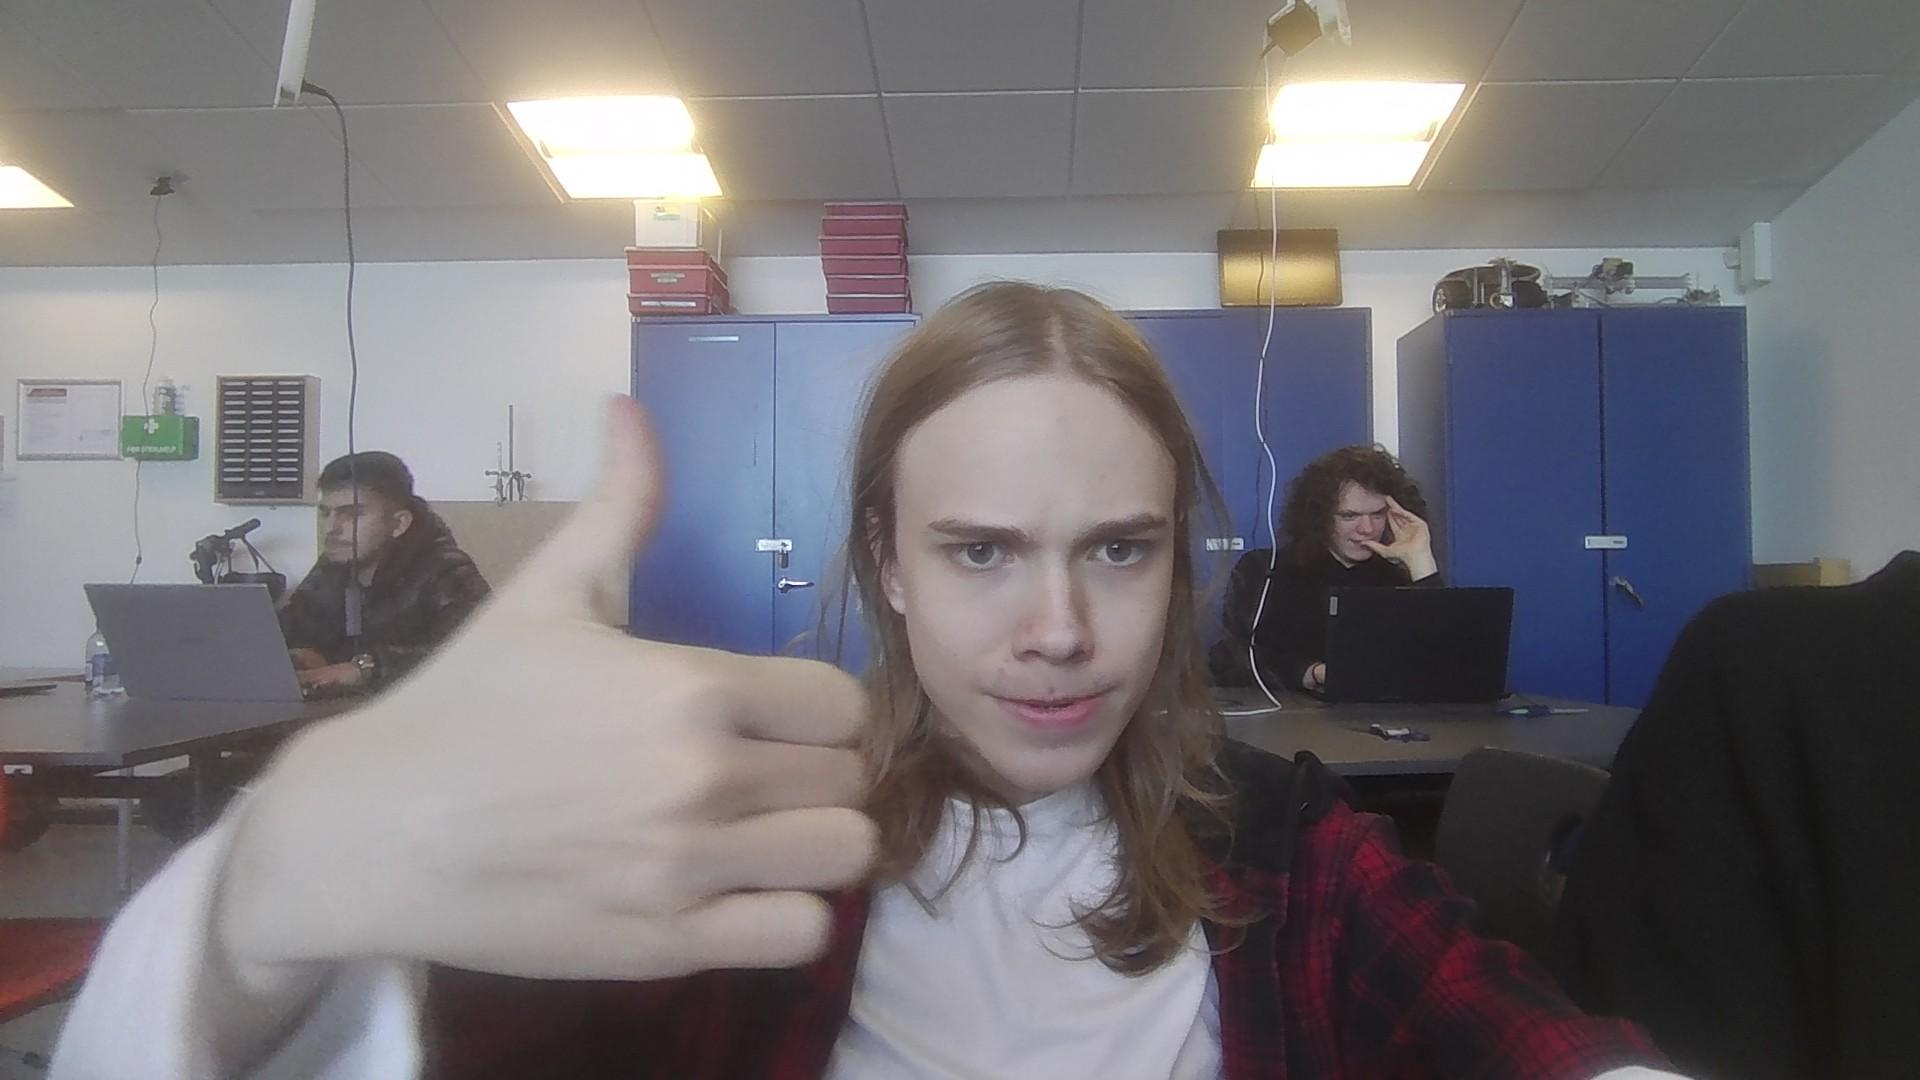thumbs up: (284, 381, 868, 986)
